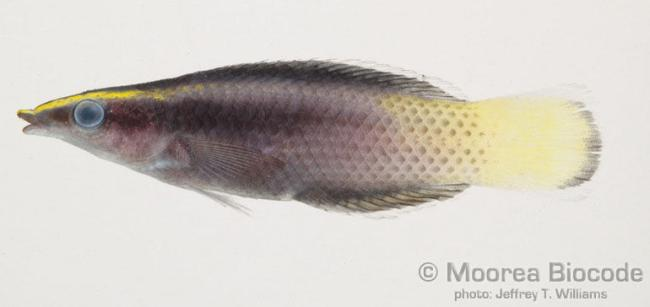fish: (16, 56, 603, 222)
